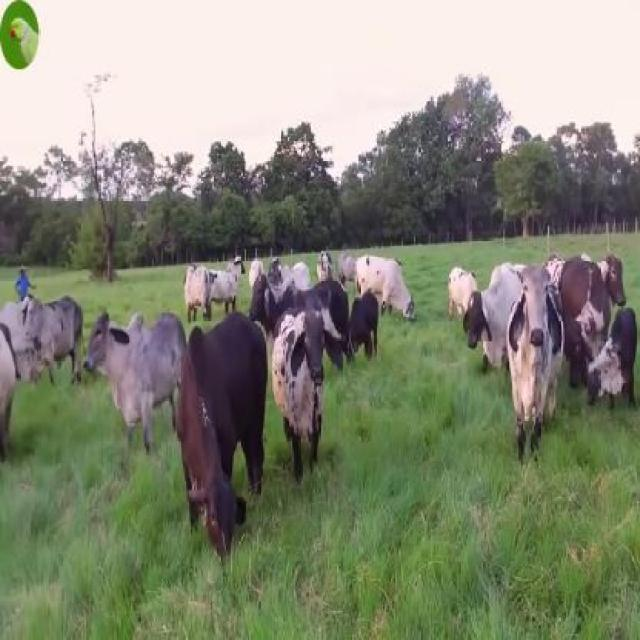Cow: (177, 312, 269, 554), (80, 308, 186, 455), (508, 268, 563, 468), (250, 277, 344, 380), (272, 310, 326, 478), (557, 257, 609, 388), (468, 258, 524, 378), (24, 295, 78, 388), (354, 250, 417, 328), (248, 257, 309, 308)
